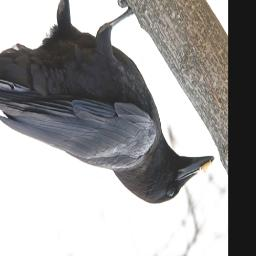Crow: (0, 0, 215, 204)
